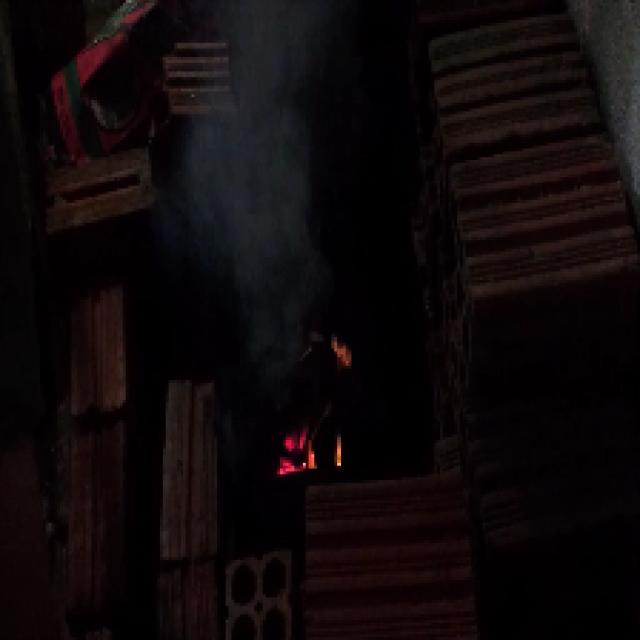smoke: (184, 31, 301, 304)
